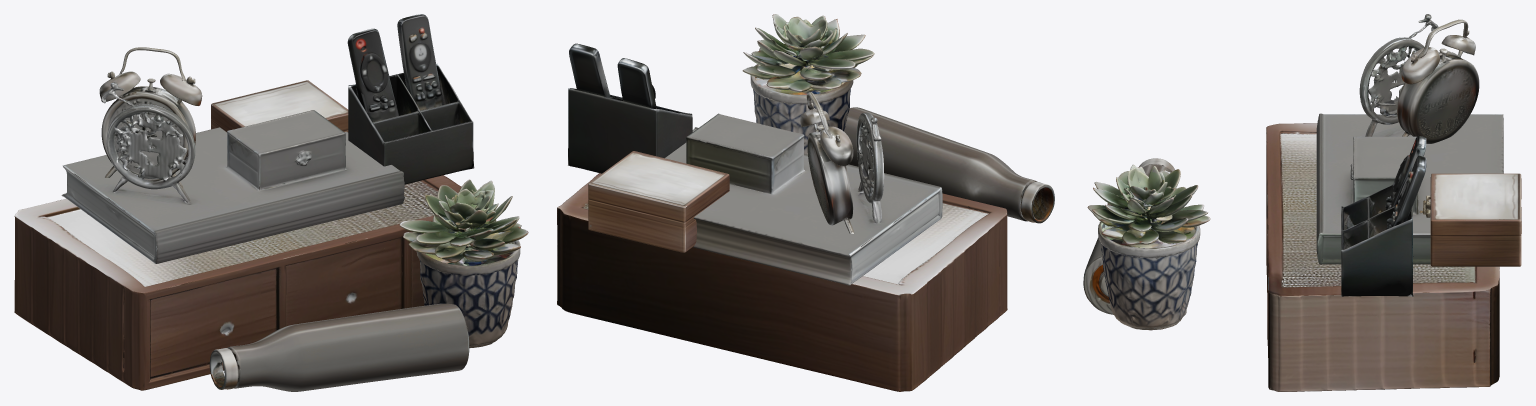
File: midi_textured.glb
The picture shows the model from 3 angles, left to right: view 1: azimuth 30°, elevation 25°; view 2: azimuth 150°, elevation 25°; view 3: azimuth 270°, elevation 25°; orthographic projection.
Visible parts, largest first — view 1: geometry_081bf22b8536e, geometry_02e2131802466, geometry_02a8a2226c645, geometry_05ece2605cc18, geometry_0f0cc6973ee7c, geometry_06e6d76ff2c29, geometry_0; view 2: geometry_081bf22b8536e, geometry_02e2131802466, geometry_0f0cc6973ee7c, geometry_05ece2605cc18, geometry_0, geometry_02a8a2226c645, geometry_06e6d76ff2c29; view 3: geometry_081bf22b8536e, geometry_02e2131802466, geometry_0f0cc6973ee7c, geometry_0, geometry_05ece2605cc18, geometry_06e6d76ff2c29, geometry_02a8a2226c645.
Part boxes in pixels (x1,y1,x2,y2): geometry_081bf22b8536e: (14, 175, 461, 390); geometry_02e2131802466: (61, 82, 404, 263); geometry_02a8a2226c645: (209, 303, 469, 391); geometry_05ece2605cc18: (347, 14, 474, 184); geometry_0f0cc6973ee7c: (399, 179, 528, 348); geometry_06e6d76ff2c29: (99, 47, 202, 188); geometry_0: (211, 80, 348, 132); geometry_081bf22b8536e: (557, 173, 1007, 391); geometry_02e2131802466: (665, 112, 942, 285); geometry_0f0cc6973ee7c: (742, 14, 874, 154); geometry_05ece2605cc18: (568, 43, 692, 173); geometry_0: (588, 151, 729, 252); geometry_02a8a2226c645: (844, 107, 1054, 223); geometry_06e6d76ff2c29: (800, 92, 853, 233); geometry_081bf22b8536e: (1266, 123, 1499, 391); geometry_02e2131802466: (1316, 14, 1503, 264); geometry_0f0cc6973ee7c: (1087, 164, 1210, 330); geometry_0: (1419, 173, 1521, 266); geometry_05ece2605cc18: (1341, 135, 1426, 296); geometry_06e6d76ff2c29: (1397, 19, 1479, 143); geometry_02a8a2226c645: (1083, 158, 1174, 314).
Size of the model in its own units: 1.9 by 1.18 by 1.89.
Materials: 7 (7 with a texture image).
